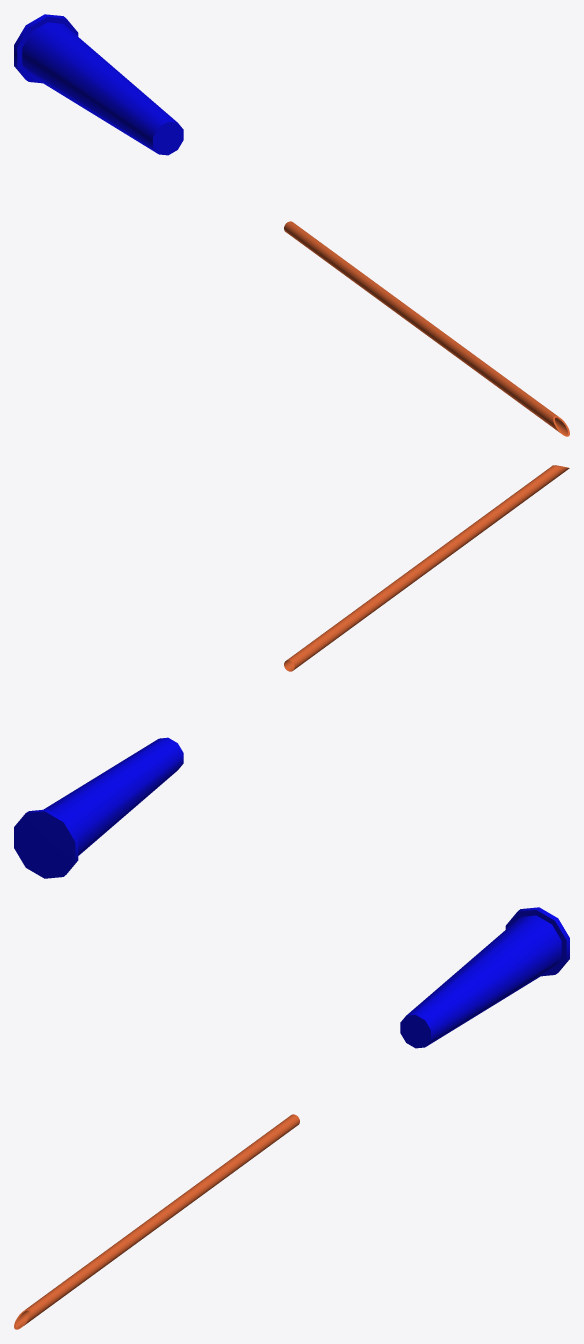
The model's file is ArreglosCanula_LowPoly_v2.fbx.
3 renders of one model, top to bottom at view 1: azimuth 30°, elevation 25°; view 2: azimuth 150°, elevation 25°; view 3: azimuth 330°, elevation 25°, orthographic.
Parts seen in each view (by area): view 1: pCylinder13, pCylinder20; view 2: pCylinder13, pCylinder20; view 3: pCylinder13, pCylinder20.
Boxes of the visible parts, <box> form: pCylinder13: <box>14,14,183,155</box>; pCylinder20: <box>284,221,569,436</box>; pCylinder13: <box>14,737,183,878</box>; pCylinder20: <box>284,465,569,671</box>; pCylinder13: <box>400,907,569,1048</box>; pCylinder20: <box>14,1114,299,1329</box>.
Bounding box in the file's own units: 0.5721 × 0.6016 × 8.45.
